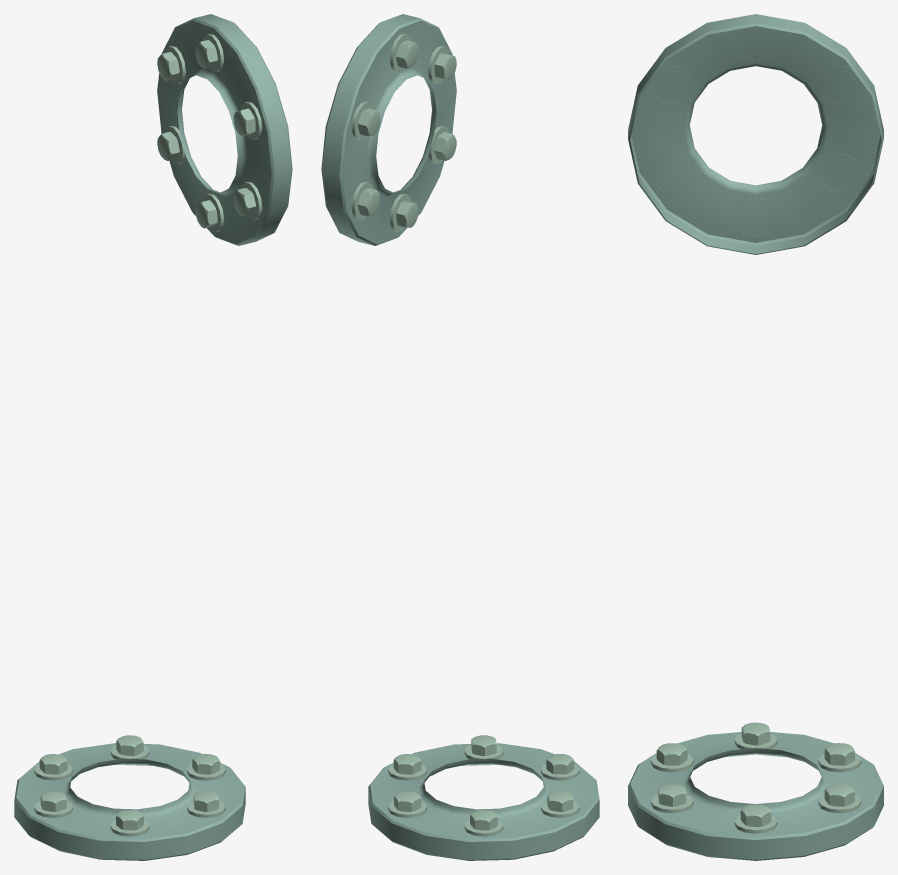
The model's file is PipeComplexLarge_A3_16_End.fbx.
The picture shows the model from 3 angles, left to right: view 1: azimuth 30°, elevation 25°; view 2: azimuth 150°, elevation 25°; view 3: azimuth 270°, elevation 25°; orthographic projection. The views are drawn at different scales.
Parts seen in each view (by area): view 1: PipeComplexLarge_A3_16_End.001; view 2: PipeComplexLarge_A3_16_End.001; view 3: PipeComplexLarge_A3_16_End.001.
Part boxes in pixels (bbox=[...]): PipeComplexLarge_A3_16_End.001: bbox=[14, 14, 292, 860]; PipeComplexLarge_A3_16_End.001: bbox=[321, 14, 599, 860]; PipeComplexLarge_A3_16_End.001: bbox=[628, 14, 883, 860].
Bounding box in the file's own units: 0.3927 × 1.39 × 0.3846.
